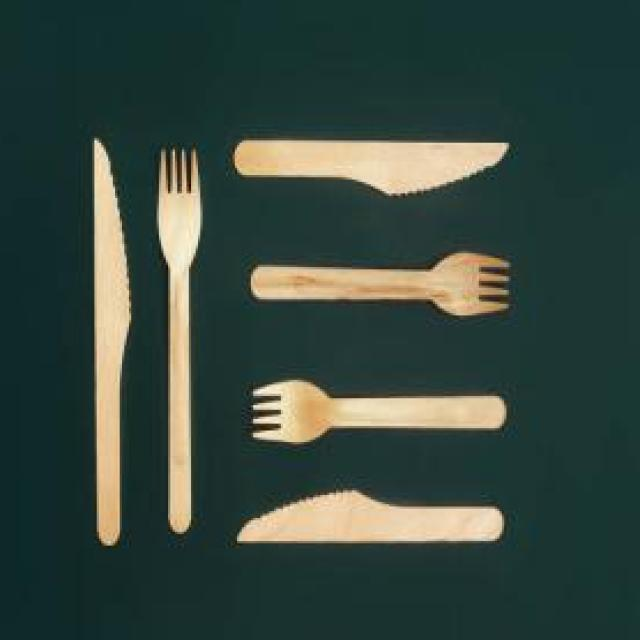knife: (90, 136, 131, 554), (230, 134, 507, 191), (234, 486, 502, 538)
